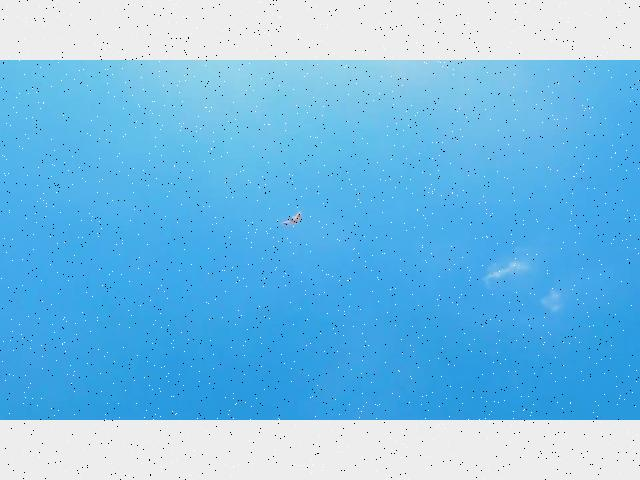Anti-Drone: (276, 203, 304, 235)
